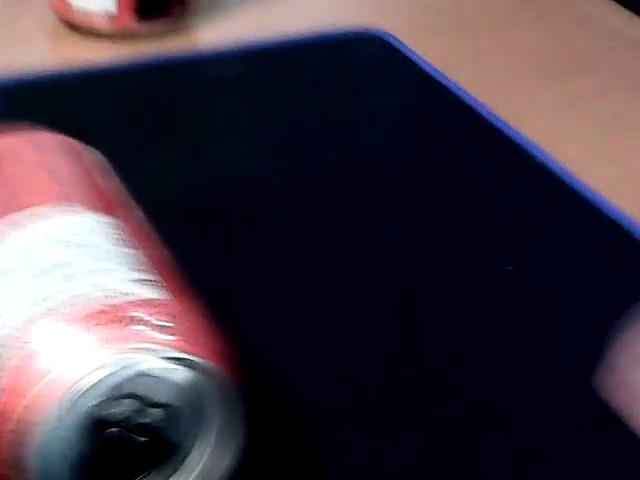coke: (0, 128, 248, 480), (36, 1, 267, 47)
